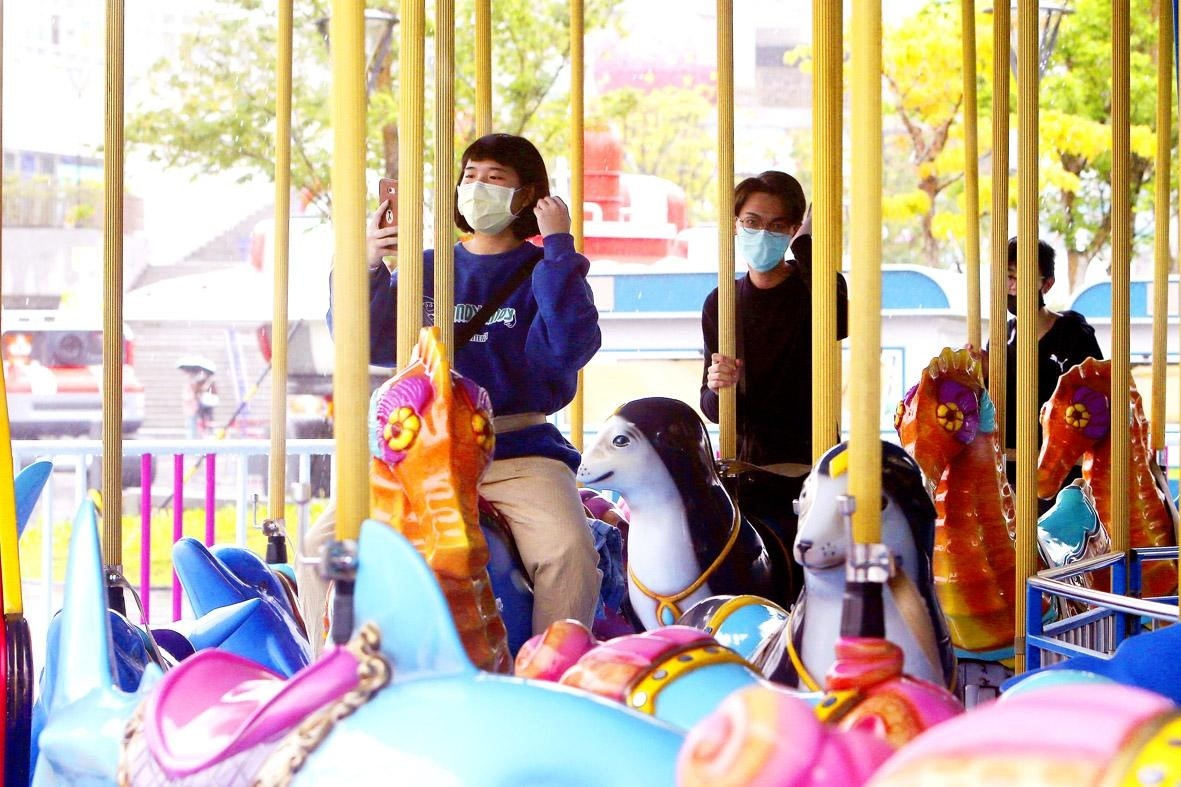face_with_mask: (443, 138, 540, 251), (720, 171, 804, 280)
